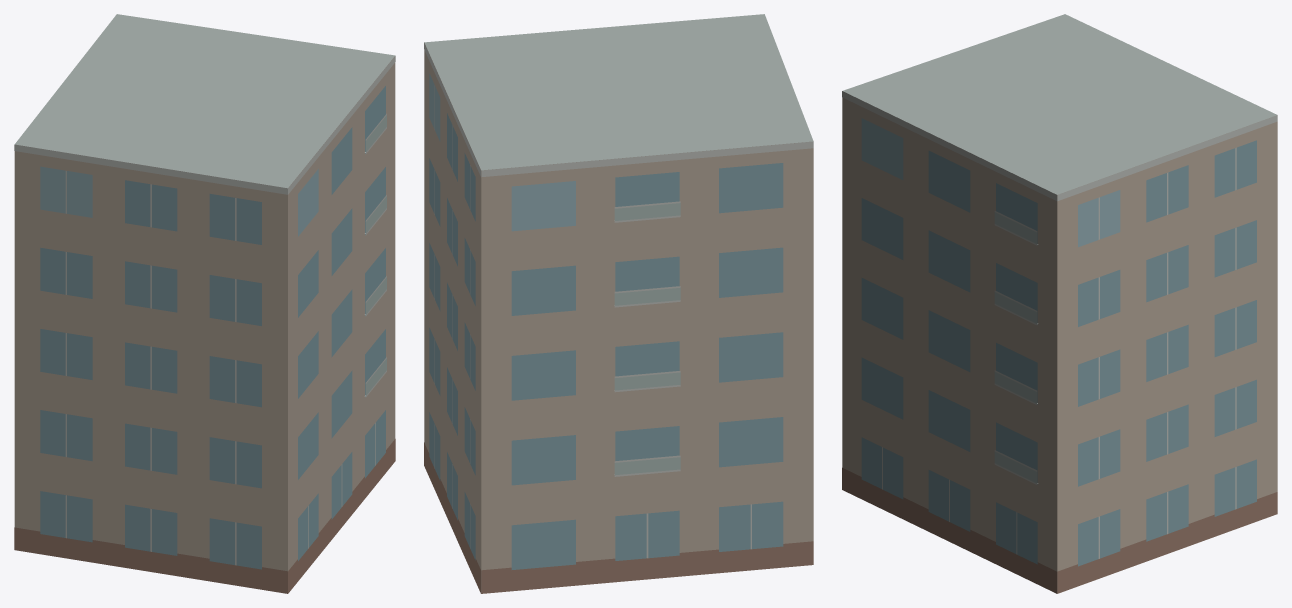
Rendered from survey-upis-32774071.glb.
3 views of the same model, side by side, from view 1: azimuth 30°, elevation 25°; view 2: azimuth 150°, elevation 25°; view 3: azimuth 270°, elevation 25° (orthographic). The views are drawn at different scales.
Visible parts, largest first — view 1: survey-upis-32774071.tmp; view 2: survey-upis-32774071.tmp; view 3: survey-upis-32774071.tmp.
Part boxes in pixels (x1,y1,x2,y2): survey-upis-32774071.tmp: (14, 14, 395, 593); survey-upis-32774071.tmp: (424, 14, 813, 593); survey-upis-32774071.tmp: (842, 14, 1277, 593).
Size of the model in its own units: 14.69 by 15.1 by 14.95.
